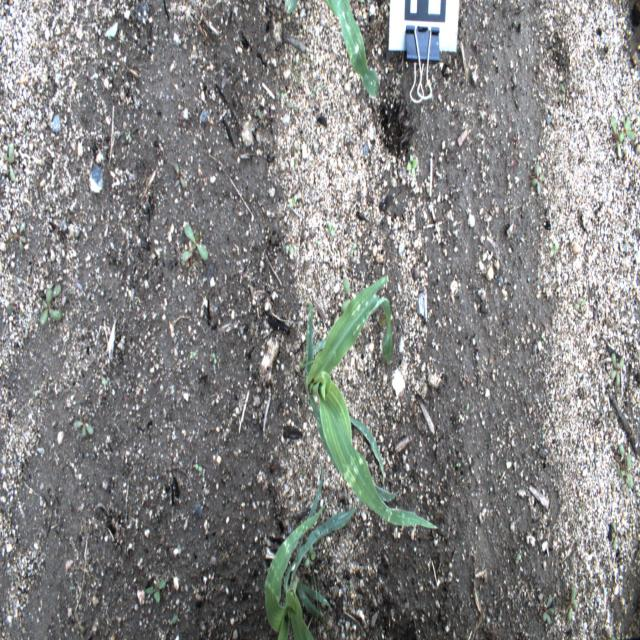crop: (297, 274, 441, 527), (262, 468, 356, 640), (324, 0, 381, 99), (284, 0, 296, 13)
weed: (182, 222, 209, 272), (610, 116, 635, 160), (41, 283, 63, 328), (616, 444, 634, 491), (564, 577, 578, 625), (143, 578, 167, 605), (609, 351, 625, 388), (530, 161, 545, 196), (4, 145, 15, 186), (73, 419, 95, 438), (541, 596, 554, 625), (173, 161, 186, 189), (610, 519, 620, 551), (406, 153, 418, 177), (14, 234, 27, 253), (559, 81, 569, 104), (574, 296, 588, 312), (326, 222, 335, 240), (550, 242, 557, 261), (290, 193, 297, 209), (284, 242, 294, 252), (350, 244, 357, 257)
